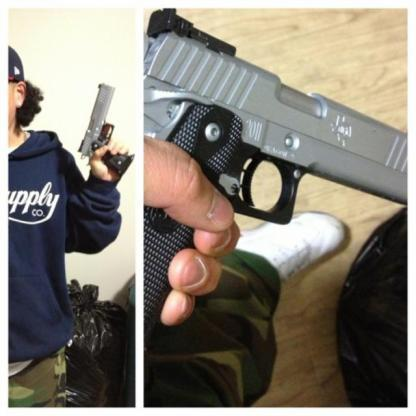weapon: (145, 8, 407, 335), (78, 81, 136, 181)
